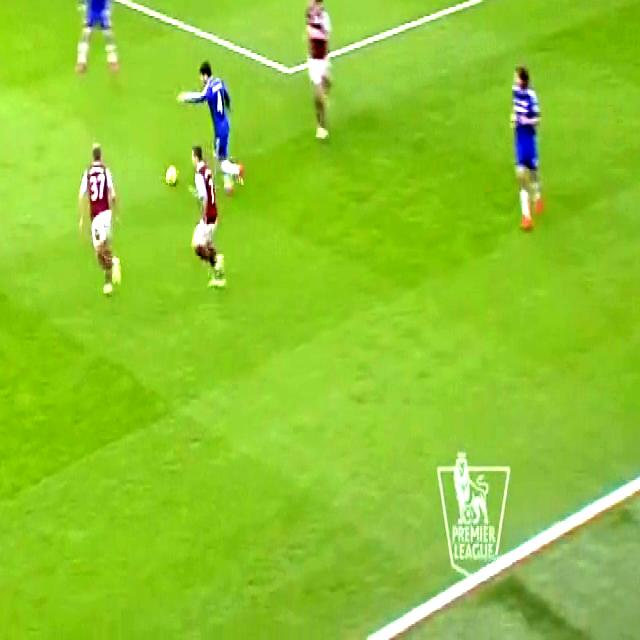ball: (162, 157, 182, 203)
soccer-player: (498, 46, 554, 240), (180, 51, 249, 190), (72, 134, 127, 302), (295, 0, 345, 148), (184, 162, 232, 296), (70, 0, 123, 84)
